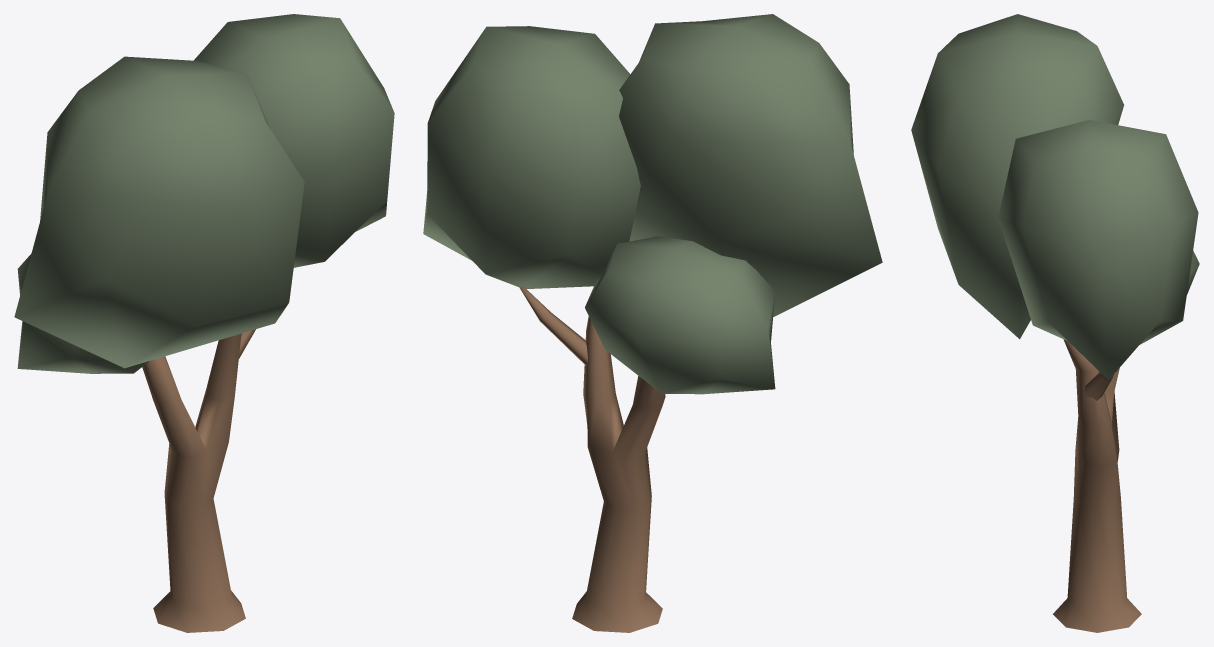
Rendered from EP_ENV_tree.fbx.
3 renders of one model, left to right at view 1: azimuth 30°, elevation 25°; view 2: azimuth 150°, elevation 25°; view 3: azimuth 270°, elevation 25°, orthographic. The views are drawn at different scales.
Parts seen in each view (by area): view 1: EP_ENV_tree; view 2: EP_ENV_tree; view 3: EP_ENV_tree.
Part boxes in pixels (left/top/right/bottom): EP_ENV_tree: left=14, top=14, right=394, bottom=632; EP_ENV_tree: left=423, top=14, right=882, bottom=632; EP_ENV_tree: left=911, top=14, right=1199, bottom=632.
Size of the model in its own units: 287 by 383 by 184.
